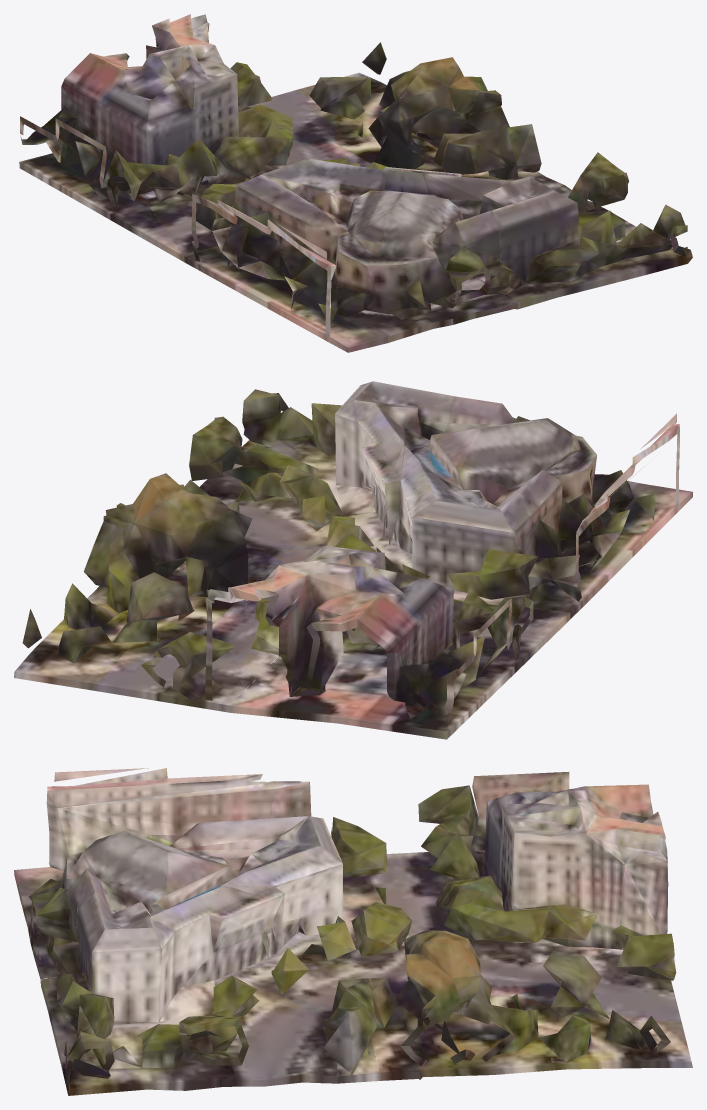
3 views of the same model, one above another, from view 1: azimuth 30°, elevation 25°; view 2: azimuth 150°, elevation 25°; view 3: azimuth 270°, elevation 25° (orthographic). The views are drawn at different scales.
Visible parts, largest first — view 1: Mesh_0; view 2: Mesh_0; view 3: Mesh_0.
Boxes of the visible parts, x1,y1,x2,y2 form: Mesh_0: [19, 14, 692, 352]; Mesh_0: [14, 381, 692, 739]; Mesh_0: [14, 768, 692, 1095].
Size of the model in its own units: 137 by 37.19 by 165.
Materials: 1 (1 with a texture image).
